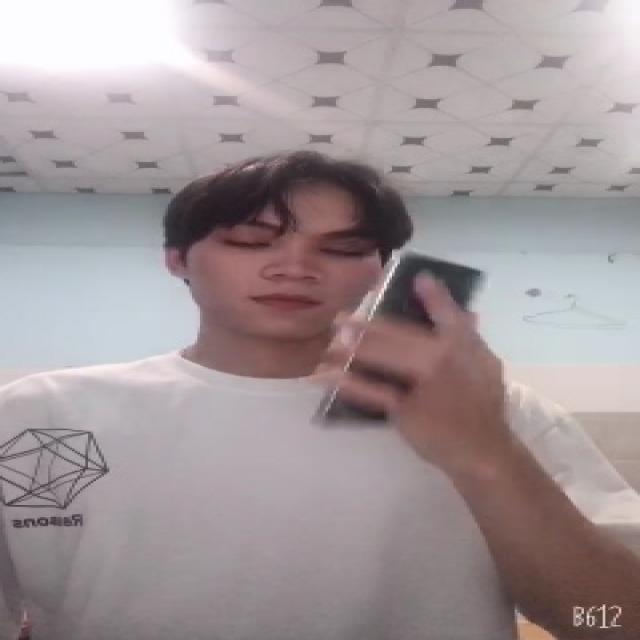Phone: (312, 249, 483, 431)
